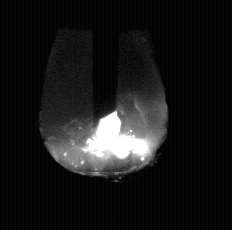arame: (92, 0, 118, 128)
poca: (38, 0, 166, 230)
